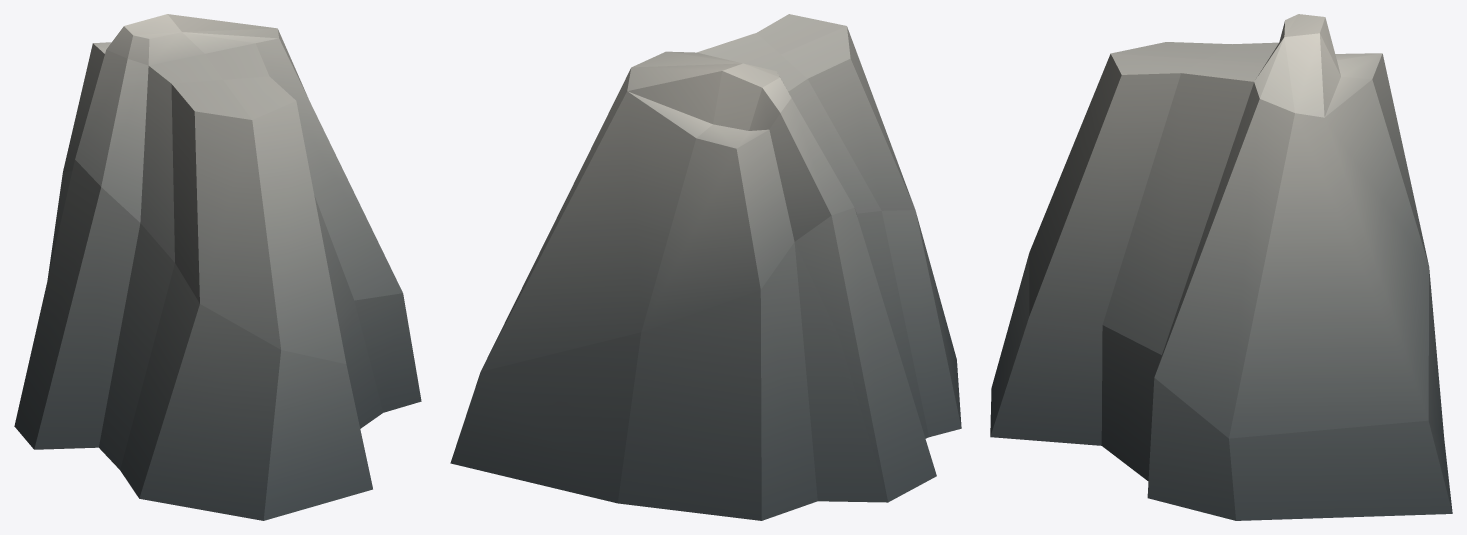
The model's file is Rock_Medium_F.fbx.
The picture shows the model from 3 angles, left to right: view 1: azimuth 30°, elevation 25°; view 2: azimuth 150°, elevation 25°; view 3: azimuth 270°, elevation 25°; orthographic projection. The views are drawn at different scales.
Visible parts, largest first — view 1: Rock_Medium_F; view 2: Rock_Medium_F; view 3: Rock_Medium_F.
Part boxes in pixels (left/top/right/bottom): Rock_Medium_F: left=14, top=14, right=421, bottom=520; Rock_Medium_F: left=450, top=14, right=961, bottom=520; Rock_Medium_F: left=990, top=14, right=1452, bottom=520.
Bounding box in the file's own units: 372 × 365 × 390.
